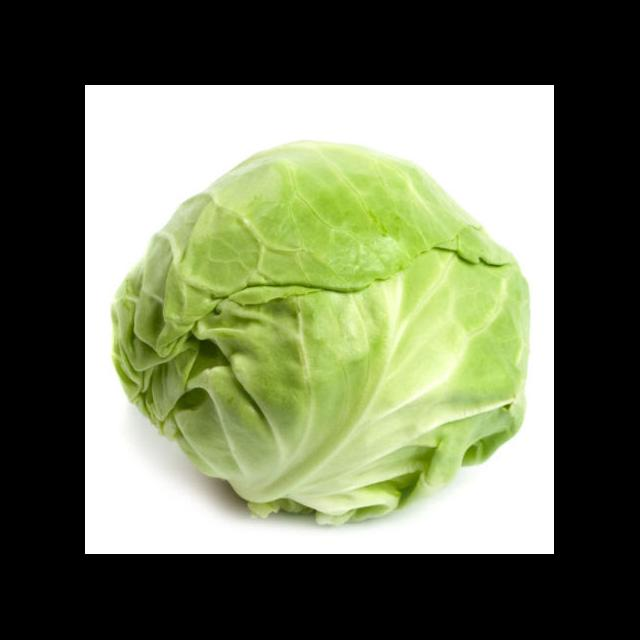cabbage: (110, 140, 532, 528)
